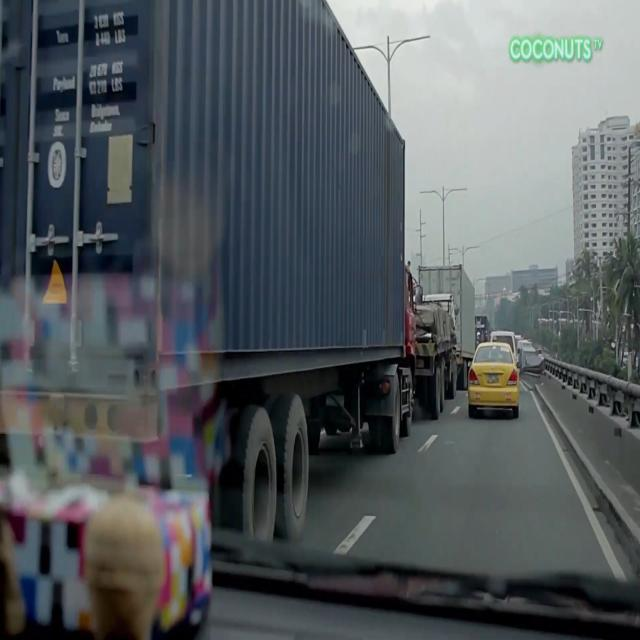truck: (0, 0, 418, 541), (419, 263, 481, 393), (417, 292, 457, 420)
